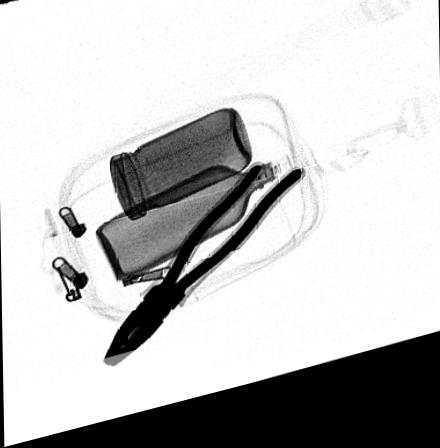Pliers: (100, 178, 307, 375)
